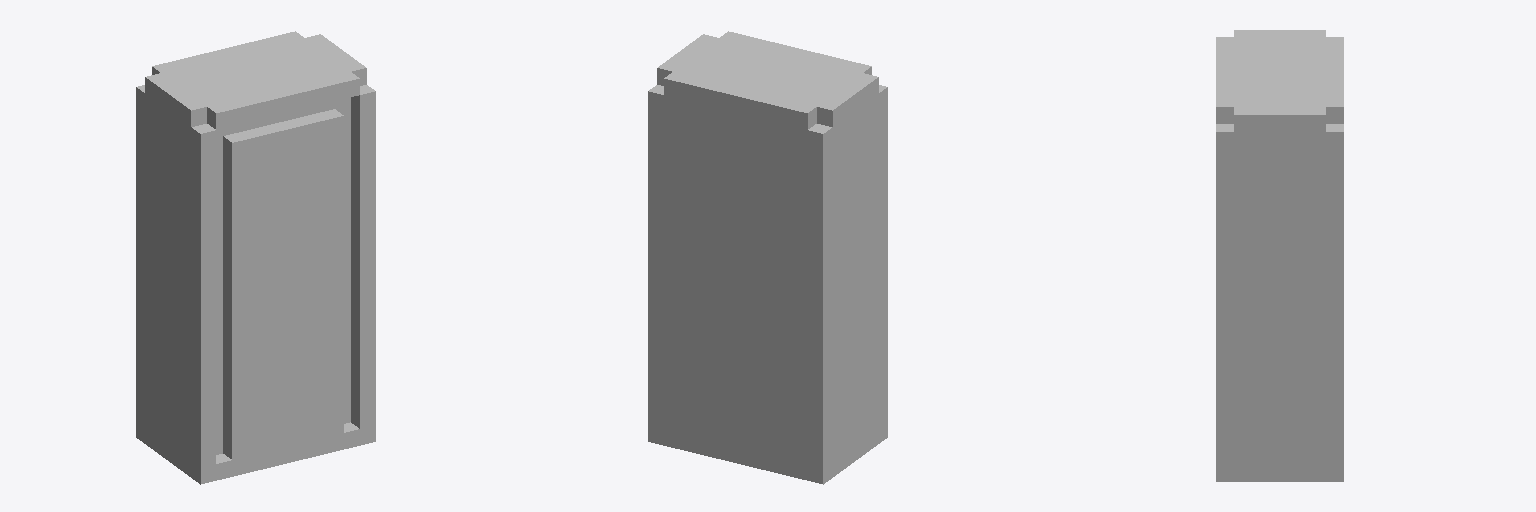
The model's file is 3D Voxel Office Pack-92.obj.
3 views of the same model, side by side, from view 1: azimuth 30°, elevation 25°; view 2: azimuth 150°, elevation 25°; view 3: azimuth 270°, elevation 25° (orthographic).
Visible parts, largest first — view 1: object 1; view 2: object 1; view 3: object 1.
Part boxes in pixels (x1,y1,x2,y2): object 1: (136, 31, 375, 484); object 1: (648, 31, 887, 484); object 1: (1216, 30, 1343, 481).
Bounding box in the file's own units: 1.1 × 2.2 × 0.7.